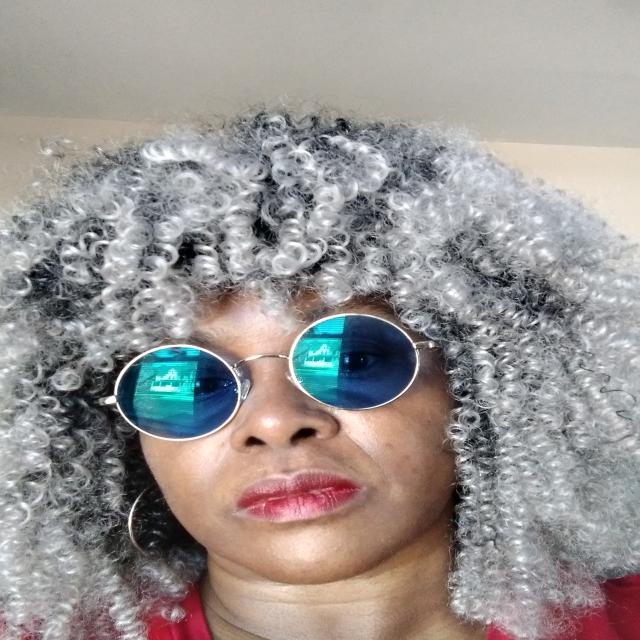2_gafas: (98, 312, 443, 442)
